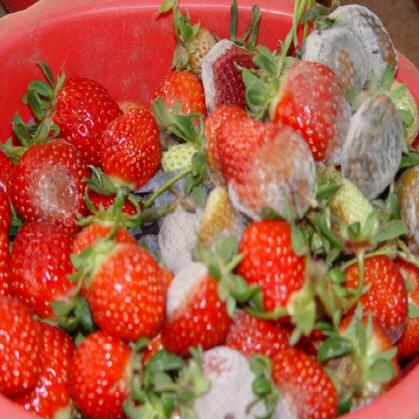Gray Mold: (216, 115, 316, 222), (267, 57, 353, 167), (175, 349, 298, 418), (9, 137, 88, 234), (338, 92, 404, 202), (325, 4, 401, 95), (160, 262, 231, 357), (200, 38, 277, 116), (303, 25, 370, 110), (157, 200, 201, 276)
